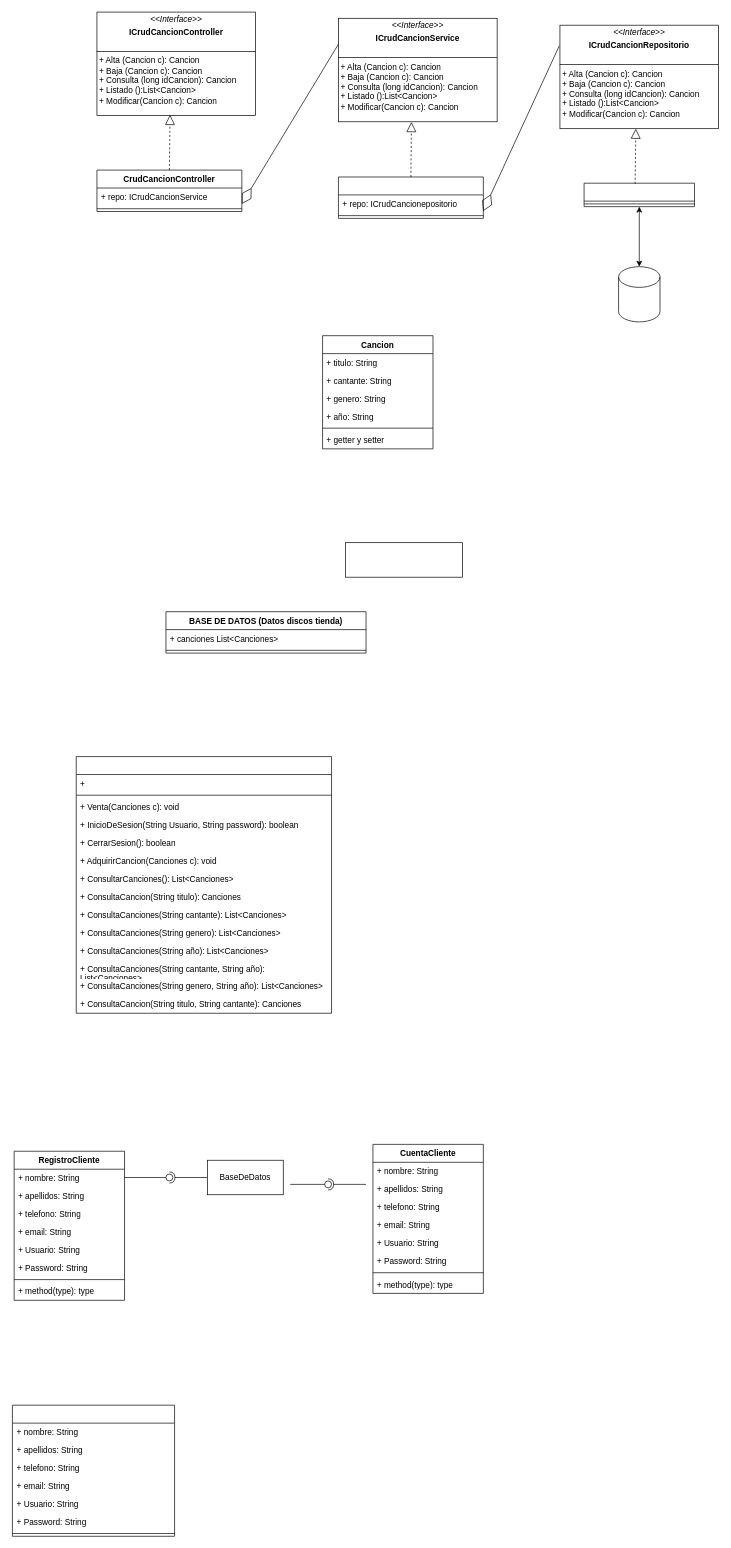
The diagram is 731 pixels wide and 1548 high, and some of its shapes have lost their labels. The box of each missing label's shape, as (x1, y1, x2, y2) in pixels:
BASE DE DATOS (registro cliente): (12, 1404, 175, 1536)
CancionRepositorio: (583, 183, 694, 207)
CrudCancionServicio: (338, 176, 483, 218)
ESTRUCTURA BASE: (345, 542, 463, 577)
TiendaDiscos: (76, 756, 332, 1013)
